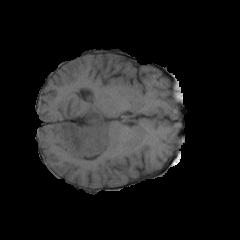glioma: (61, 97, 125, 161)
